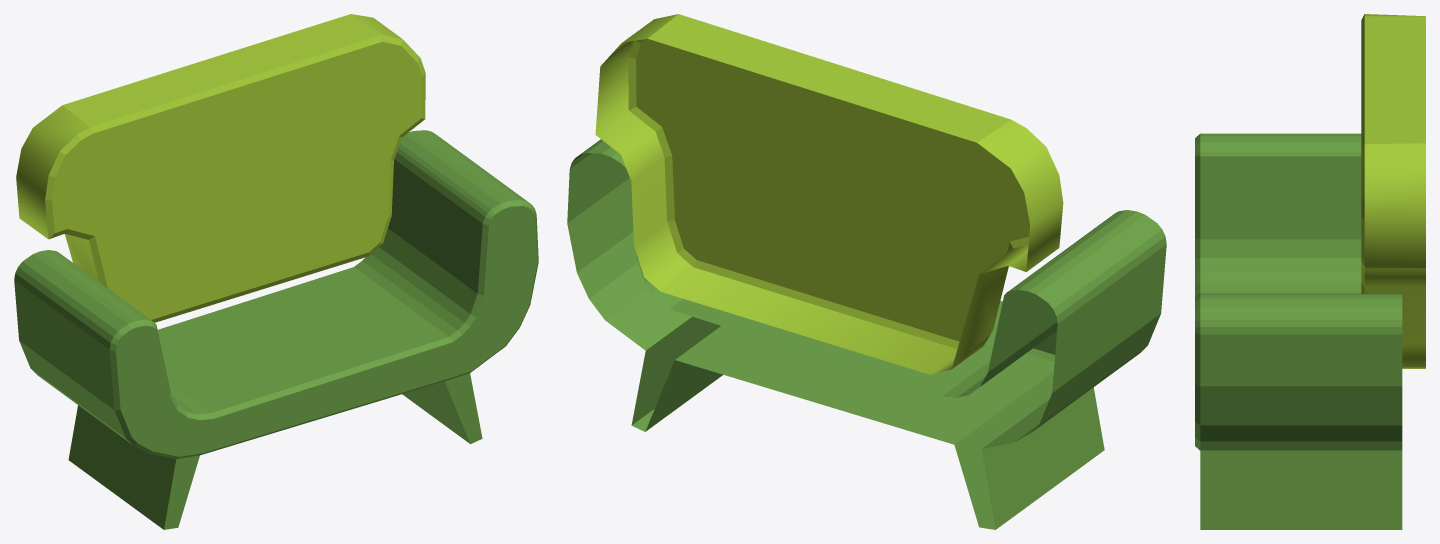
Rendered from sofa3d2.glb.
3 views of the same model, side by side, from view 1: azimuth 30°, elevation 25°; view 2: azimuth 150°, elevation 25°; view 3: azimuth 270°, elevation 25° (orthographic). The views are drawn at different scales.
Parts seen in each view (by area): view 1: base, back; view 2: back, base; view 3: base, back.
Part boxes in pixels (left/top/right/bottom): base: left=14, top=130, right=538, bottom=529; back: left=16, top=14, right=425, bottom=322; back: left=595, top=14, right=1063, bottom=374; base: left=567, top=139, right=1166, bottom=529; base: left=1195, top=133, right=1402, bottom=529; back: left=1361, top=14, right=1425, bottom=368.
Size of the model in its own units: 2.54 by 2.08 by 1.12.
